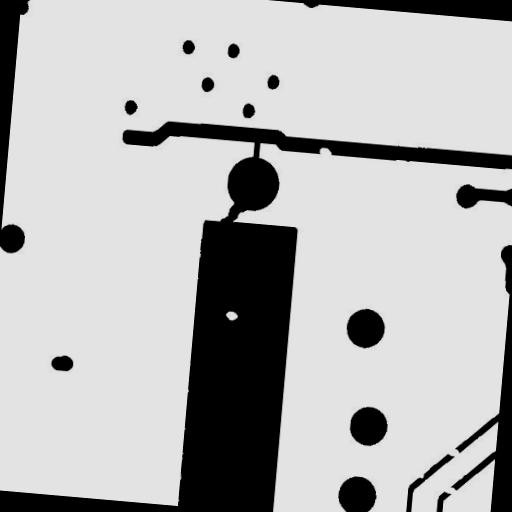copper: (42, 346, 82, 380)
mousebite: (311, 139, 340, 164), (411, 465, 432, 487)
open: (438, 440, 468, 466), (434, 478, 464, 502)
pin-hole: (217, 302, 246, 328)
short: (212, 192, 256, 234), (244, 130, 268, 168)
